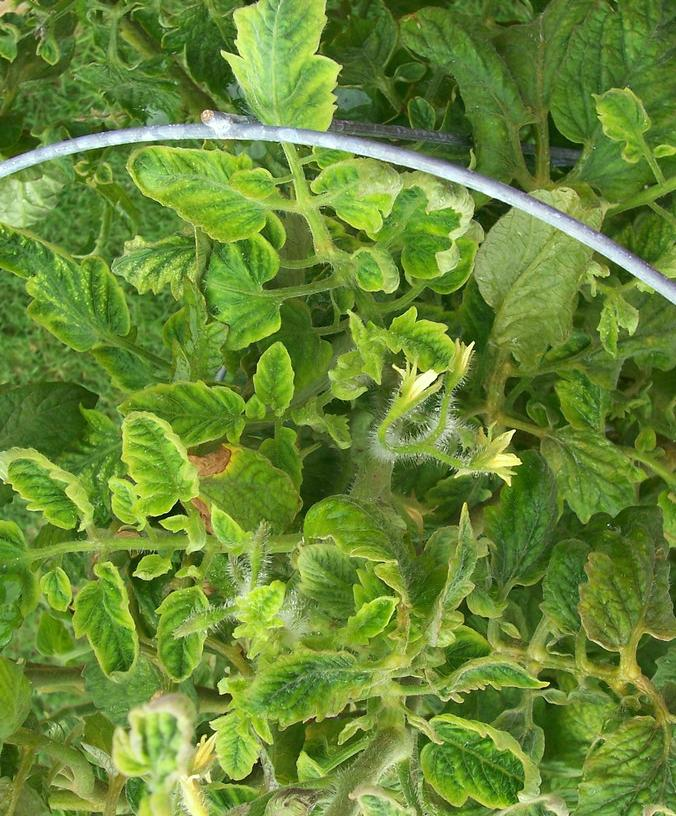Tomato leaf yellow virus: (224, 0, 343, 169), (222, 643, 404, 743), (125, 147, 285, 247), (104, 406, 212, 543), (418, 713, 552, 816), (297, 533, 404, 631), (85, 382, 254, 444), (0, 426, 95, 535), (297, 147, 409, 232), (76, 557, 145, 687), (586, 84, 665, 193), (209, 682, 269, 790), (157, 582, 212, 688), (247, 337, 304, 438), (367, 316, 459, 378)
